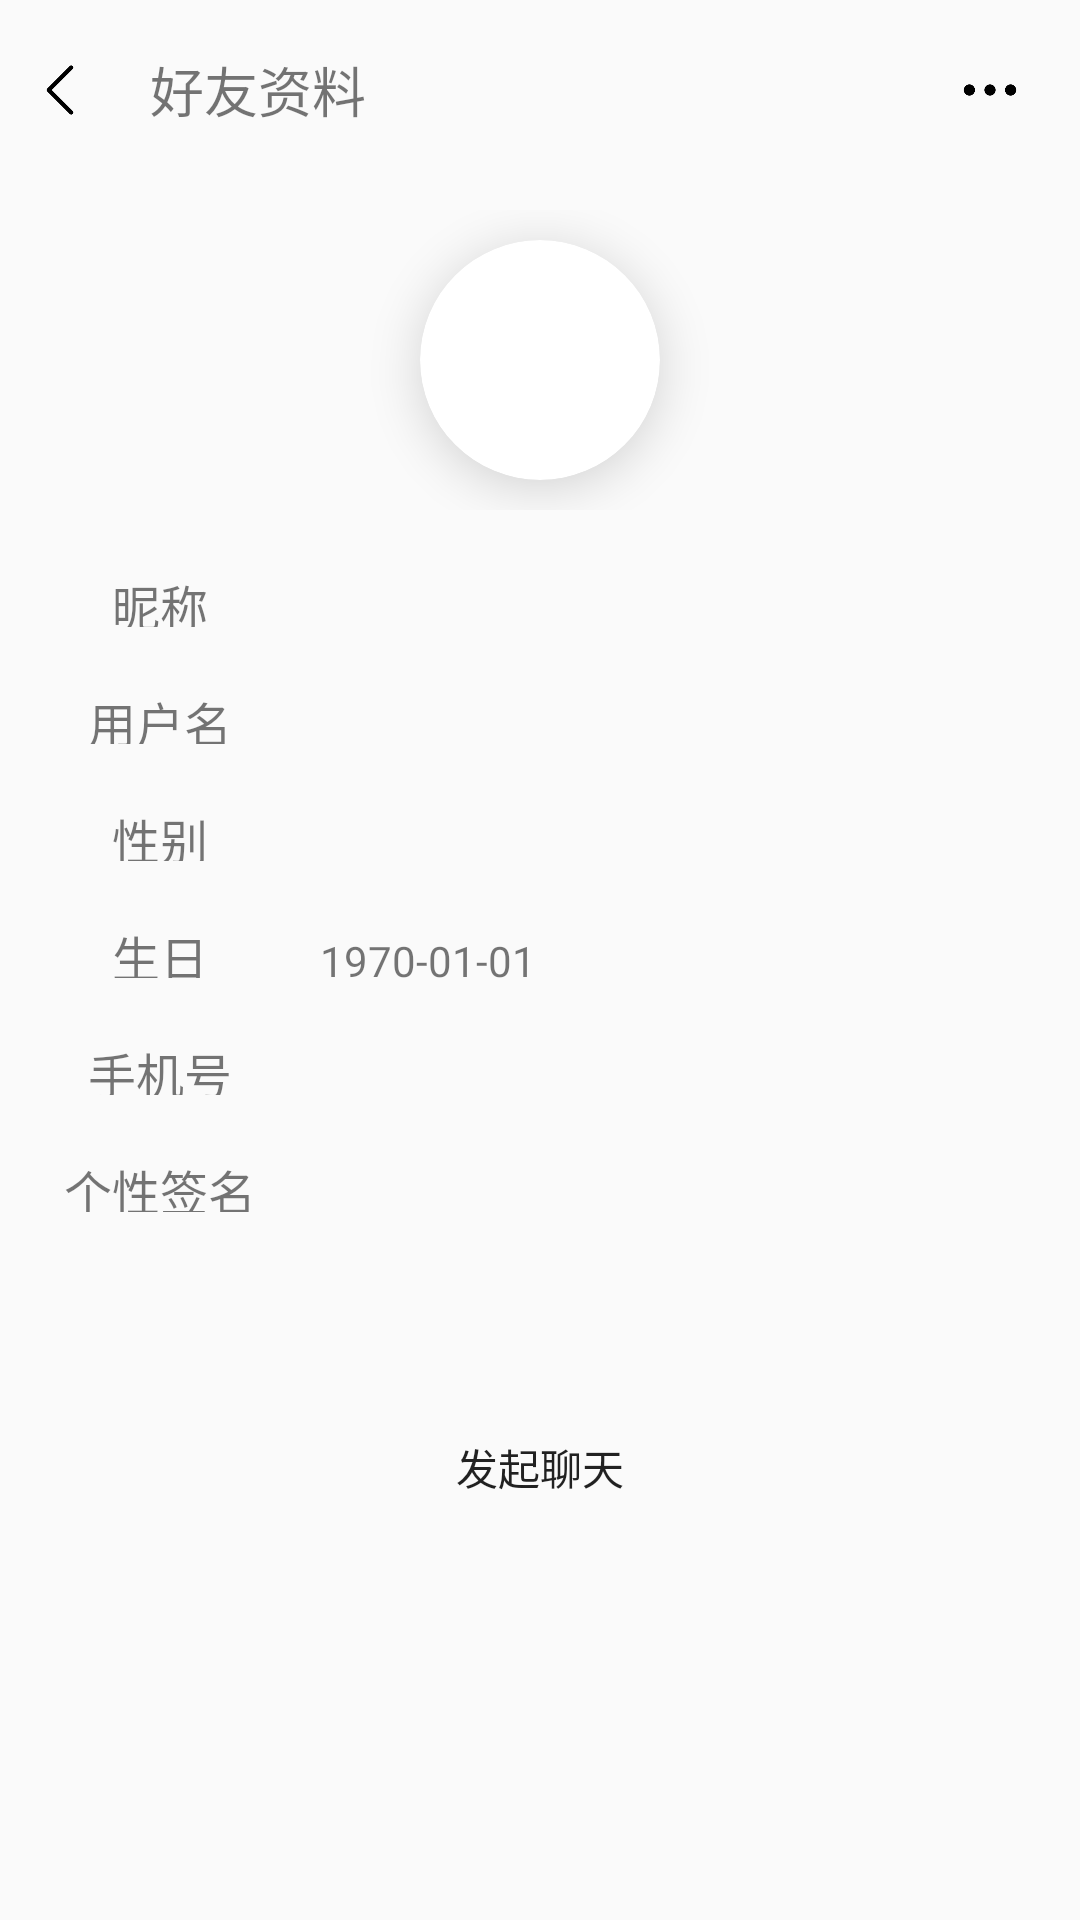

Icon bounding boxes for this 1080 x 1920 phone screenshot, format [left=x1, top=y1, right=x2, bottom=y2]:
arrow left: [left=46, top=65, right=74, bottom=115]
more: [left=964, top=84, right=1016, bottom=96]
